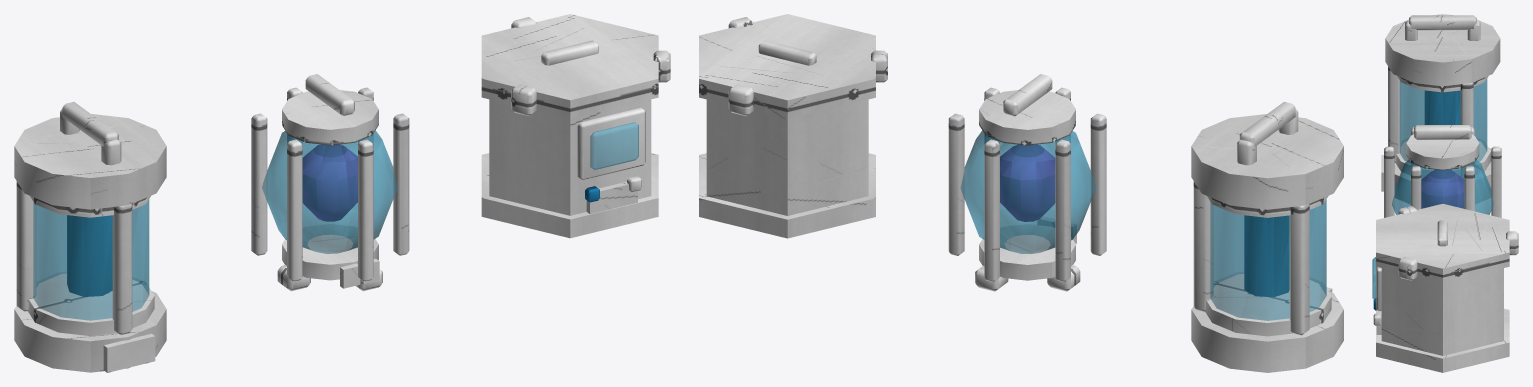
The picture shows the model from 3 angles, left to right: view 1: azimuth 30°, elevation 25°; view 2: azimuth 150°, elevation 25°; view 3: azimuth 270°, elevation 25°; orthographic projection. The views are drawn at different scales.
Visible parts, largest first — view 1: DL004_SampleCanisterFamily_graphite_navy, DL004_SampleCanisterFamily_teal_shell, DL004_SampleCanisterFamily_glass_cyan, DL004_SampleCanisterFamily_titanium, DL004_SampleCanisterFamily_amber_accent, DL004_SampleCanisterFamily_emissive_cyan, DL004_SampleCanisterFamily_specimen_violet, DL004_SampleCanisterFamily_hull_offwhite; view 2: DL004_SampleCanisterFamily_teal_shell, DL004_SampleCanisterFamily_graphite_navy, DL004_SampleCanisterFamily_glass_cyan, DL004_SampleCanisterFamily_titanium, DL004_SampleCanisterFamily_amber_accent, DL004_SampleCanisterFamily_specimen_violet, DL004_SampleCanisterFamily_emissive_cyan; view 3: DL004_SampleCanisterFamily_teal_shell, DL004_SampleCanisterFamily_graphite_navy, DL004_SampleCanisterFamily_glass_cyan, DL004_SampleCanisterFamily_titanium, DL004_SampleCanisterFamily_amber_accent, DL004_SampleCanisterFamily_specimen_violet, DL004_SampleCanisterFamily_emissive_cyan, DL004_SampleCanisterFamily_hull_offwhite.
Part boxes in pixels (left/top/right/bottom): DL004_SampleCanisterFamily_graphite_navy: left=60, top=14, right=658, bottom=281; DL004_SampleCanisterFamily_teal_shell: left=14, top=99, right=651, bottom=372; DL004_SampleCanisterFamily_glass_cyan: left=33, top=122, right=638, bottom=320; DL004_SampleCanisterFamily_titanium: left=16, top=40, right=598, bottom=335; DL004_SampleCanisterFamily_amber_accent: left=28, top=17, right=670, bottom=335; DL004_SampleCanisterFamily_emissive_cyan: left=67, top=186, right=599, bottom=296; DL004_SampleCanisterFamily_specimen_violet: left=302, top=144, right=357, bottom=221; DL004_SampleCanisterFamily_hull_offwhite: left=103, top=181, right=637, bottom=372; DL004_SampleCanisterFamily_teal_shell: left=706, top=99, right=1343, bottom=372; DL004_SampleCanisterFamily_graphite_navy: left=699, top=14, right=1298, bottom=281; DL004_SampleCanisterFamily_glass_cyan: left=960, top=130, right=1326, bottom=320; DL004_SampleCanisterFamily_titanium: left=758, top=40, right=1309, bottom=335; DL004_SampleCanisterFamily_amber_accent: left=728, top=17, right=1331, bottom=336; DL004_SampleCanisterFamily_specimen_violet: left=1000, top=144, right=1055, bottom=221; DL004_SampleCanisterFamily_emissive_cyan: left=1244, top=215, right=1289, bottom=297; DL004_SampleCanisterFamily_teal_shell: left=1381, top=14, right=1503, bottom=355; DL004_SampleCanisterFamily_graphite_navy: left=1376, top=15, right=1509, bottom=372; DL004_SampleCanisterFamily_glass_cyan: left=1372, top=78, right=1493, bottom=300; DL004_SampleCanisterFamily_titanium: left=1388, top=66, right=1479, bottom=246; DL004_SampleCanisterFamily_amber_accent: left=1373, top=76, right=1518, bottom=325; DL004_SampleCanisterFamily_specimen_violet: left=1421, top=169, right=1464, bottom=208; DL004_SampleCanisterFamily_emissive_cyan: left=1373, top=90, right=1460, bottom=310; DL004_SampleCanisterFamily_hull_offwhite: left=1376, top=155, right=1383, bottom=334.
Bounding box in the file's own units: 2.12 × 0.71 × 0.56.
Materials: 8 (5 with a texture image).
